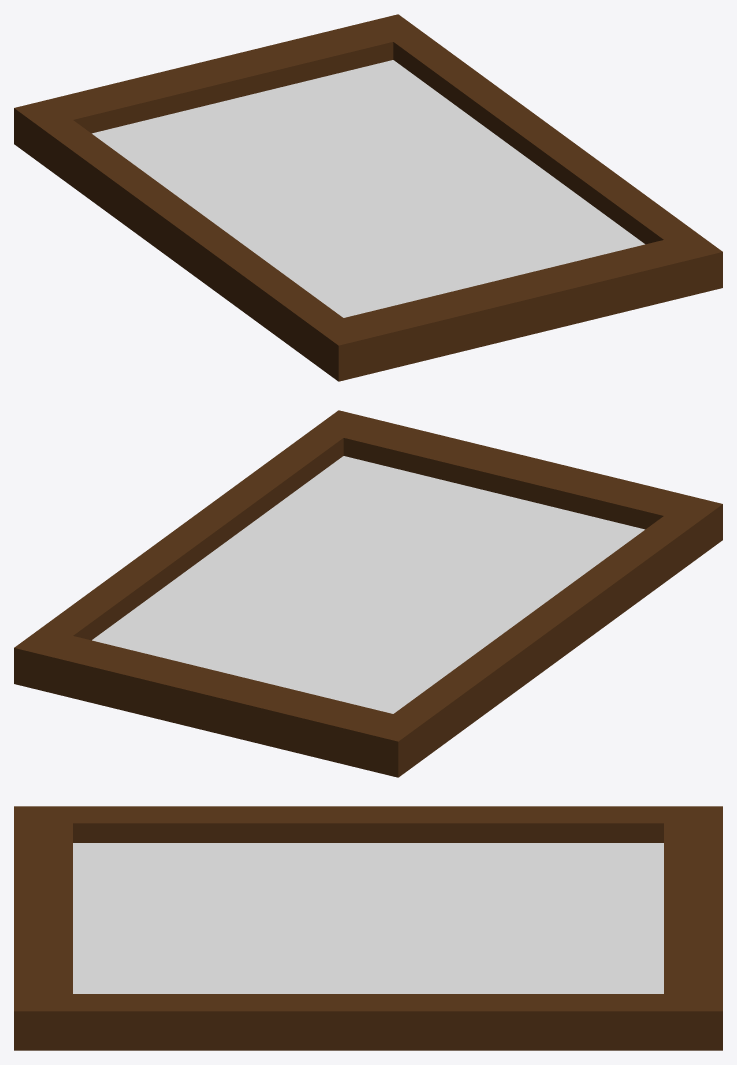
File: frame.fbx
3 renders of one model, top to bottom at view 1: azimuth 30°, elevation 25°; view 2: azimuth 150°, elevation 25°; view 3: azimuth 270°, elevation 25°, orthographic. The views are drawn at different scales.
Parts seen in each view (by area): view 1: cornice; view 2: cornice; view 3: cornice.
Part boxes in pixels (box(x1,y1,x2,y2)): cornice: box(14, 14, 722, 381); cornice: box(14, 410, 722, 777); cornice: box(14, 806, 722, 1050).
Size of the model in its own units: 296 by 26.62 by 433.
